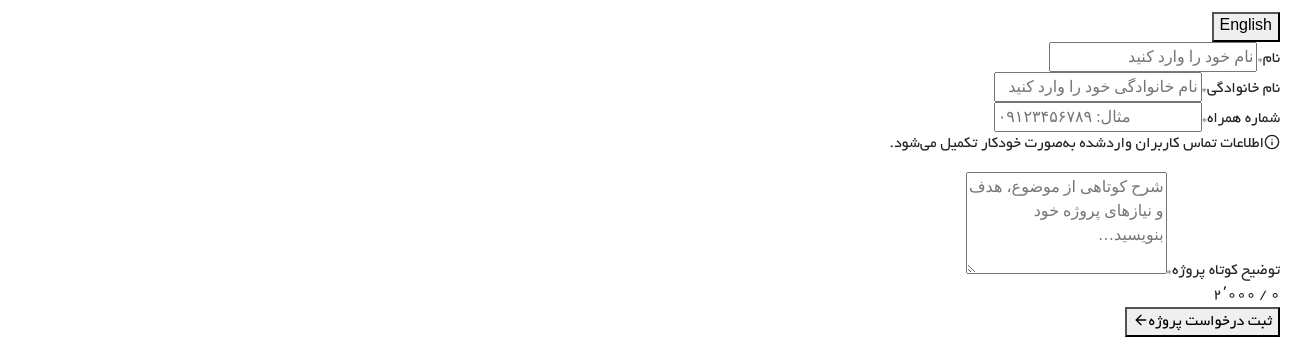
it: pending saves disable every field and reject duplicate clicks until confirmed success
Later steps or results of the test are not shown.
Type "  آرمان  " into the field labelled "نام".
click(1154, 57); type("  آرمان  ")  # box [1050, 42, 1258, 72]
Type "اسدیان" into the field labelled "نام خانوادگی".
click(1098, 87); type("اسدیان")  # box [994, 72, 1202, 102]
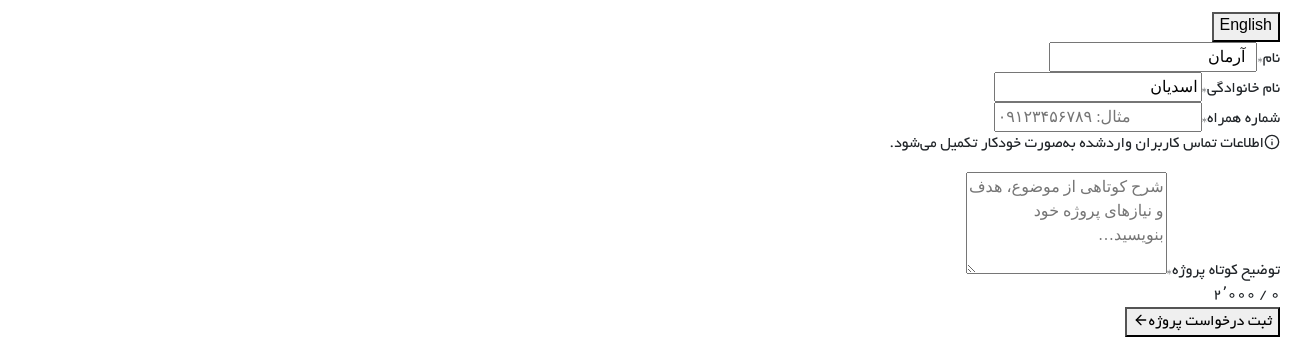
Type "٠٩۱۲۳۴۵۶۷۸۹" into the field labelled "شماره همراه".
click(1098, 117); type("٠٩۱۲۳۴۵۶۷۸۹")  # box [994, 102, 1202, 132]
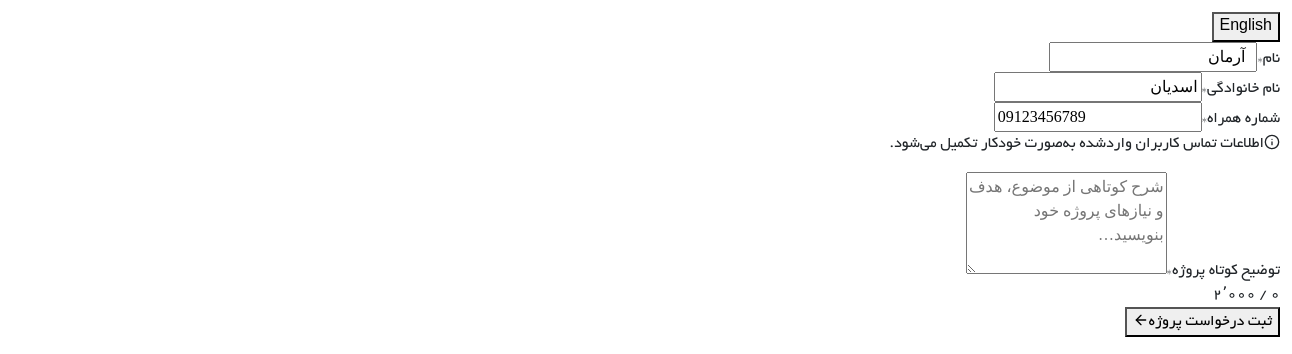
Type "تحلیل داده‌های پروژه پژوهشی" into the text box labelled "توضیح کوتاه پروژه".
click(1066, 223); type("تحلیل داده‌های پروژه پژوهشی")  # box [966, 172, 1167, 274]
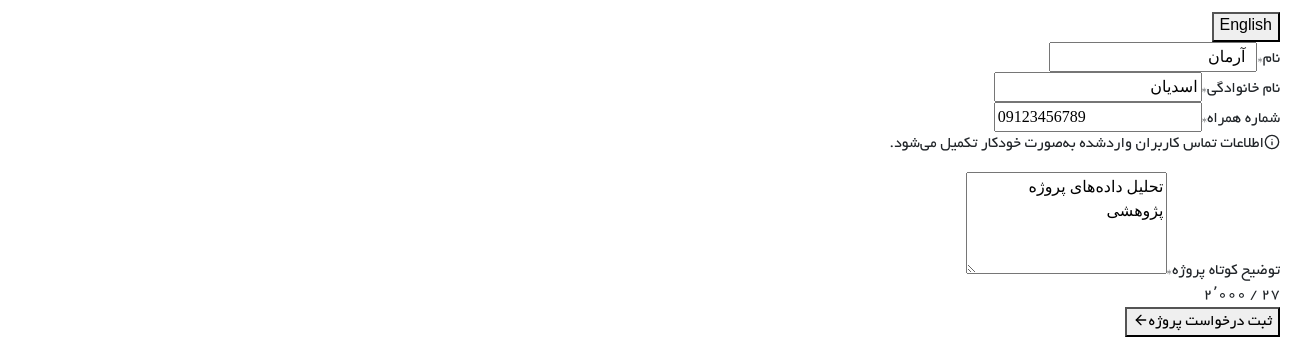
Click the button "ثبت درخواست پروژه".
click(1202, 322)  # box [1125, 307, 1280, 337]
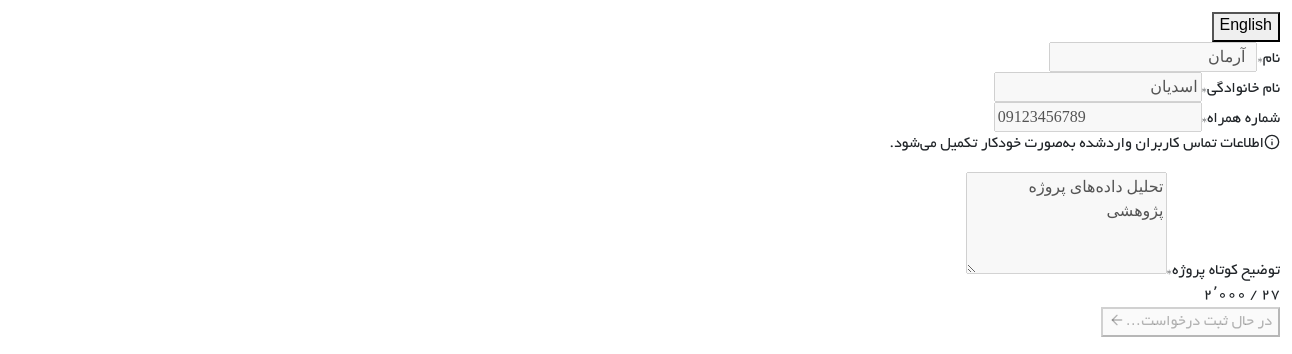
Submit the form, box [890, 42, 1280, 337]
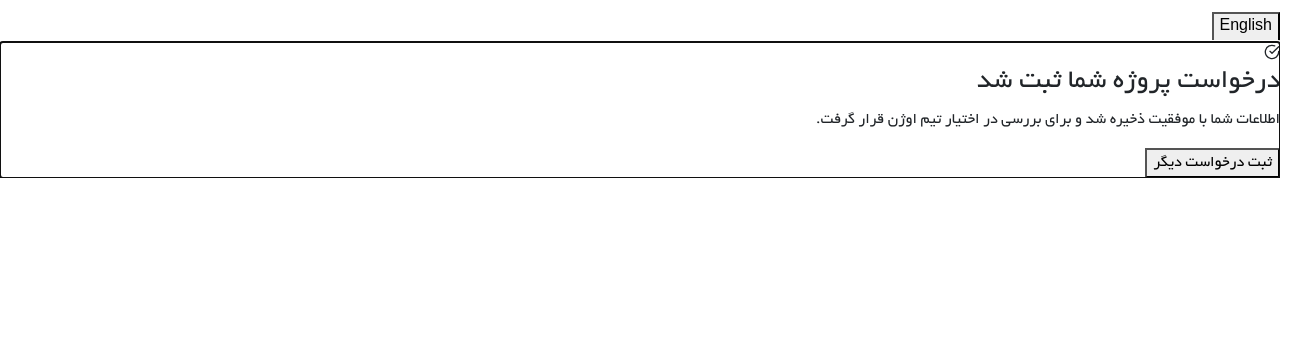
Expected: the message shows "درخواست پروژه شما ثبت شد", [977, 68, 1280, 96]
Expected: the form is gone
Click the button "ثبت درخواست دیگر".
click(1213, 163)  # box [1146, 148, 1280, 178]
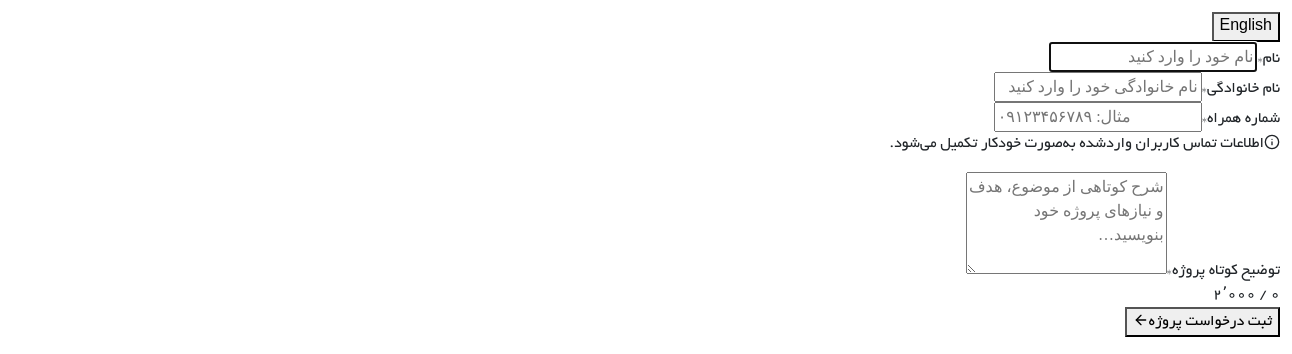
Expected: the field labelled "نام*" is empty, [1050, 42, 1258, 72]
Expected: the field labelled "نام خانوادگی*" is empty, [994, 72, 1202, 102]
Expected: the field labelled "شماره همراه*" is empty, [994, 102, 1202, 132]
